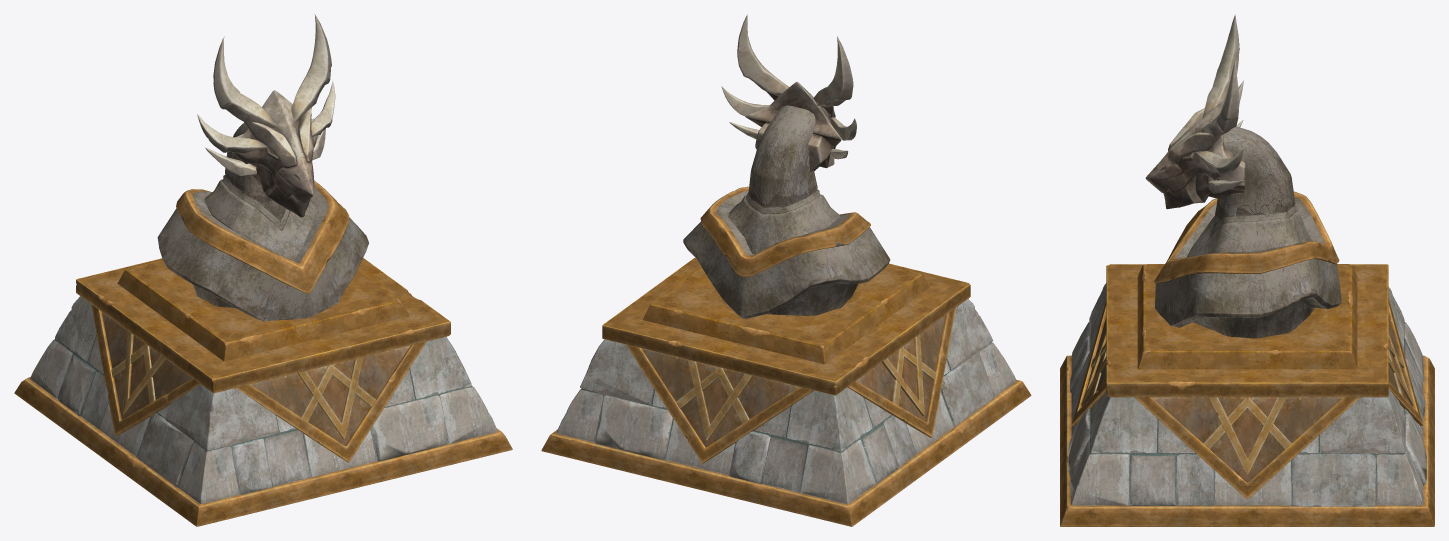
3 renders of one model, left to right at view 1: azimuth 30°, elevation 25°; view 2: azimuth 150°, elevation 25°; view 3: azimuth 270°, elevation 25°, orthographic. The views are drawn at different scales.
Visible parts, largest first — view 1: SM_DK_Pyramid_Statue_01_LOD0; view 2: SM_DK_Pyramid_Statue_01_LOD0; view 3: SM_DK_Pyramid_Statue_01_LOD0.
Boxes of the visible parts, bbox=[...] form: SM_DK_Pyramid_Statue_01_LOD0: bbox=[14, 14, 512, 526]; SM_DK_Pyramid_Statue_01_LOD0: bbox=[541, 14, 1031, 526]; SM_DK_Pyramid_Statue_01_LOD0: bbox=[1060, 14, 1434, 526].
Bounding box in the file's own units: 9.28 × 11.23 × 9.28.
Materials: 4 (4 with a texture image).
